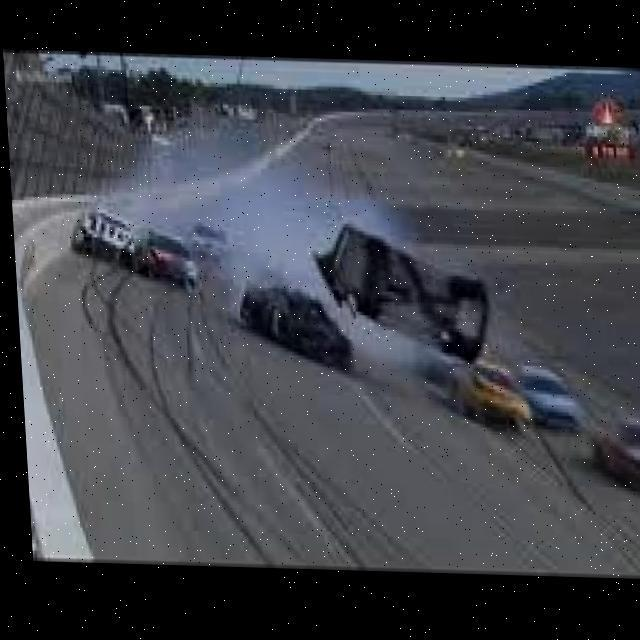multiple_accident: (118, 102, 612, 488)
